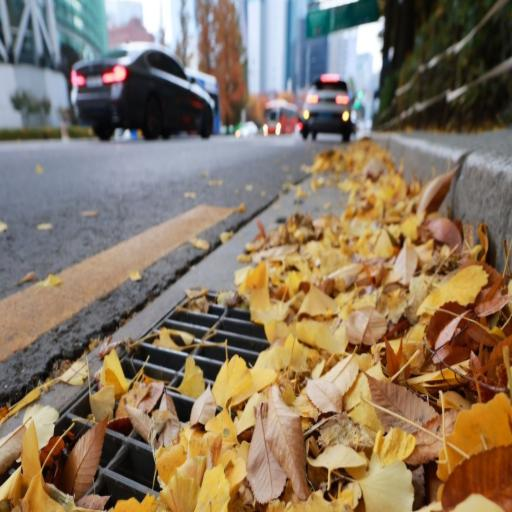debris: (6, 290, 508, 503), (125, 326, 227, 354), (176, 287, 211, 312)
drain: (5, 286, 508, 503)
